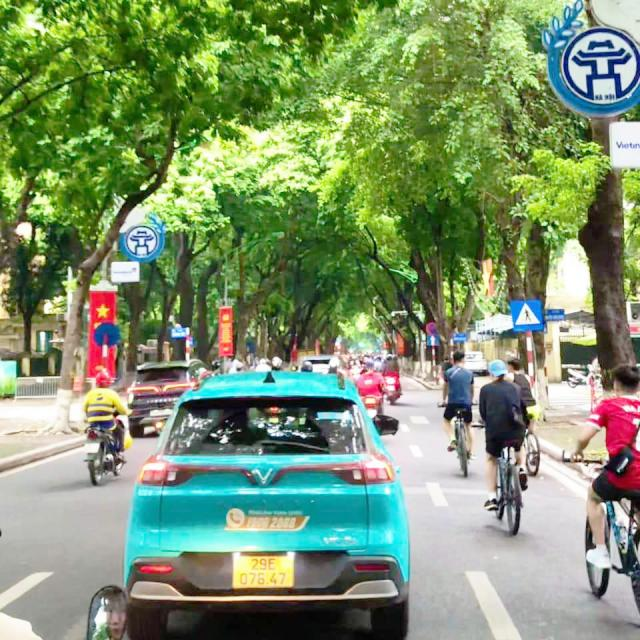license_plate: (233, 551, 296, 593)
